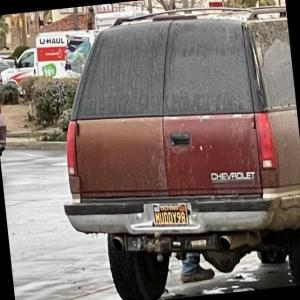Plate: (152, 202, 189, 226)
